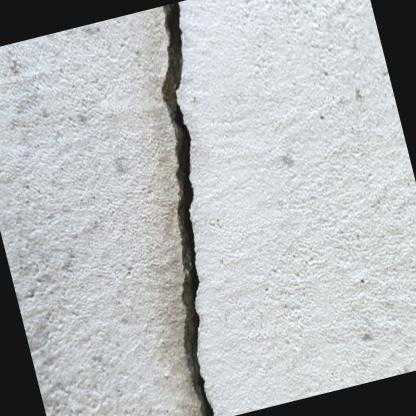crack: (159, 1, 214, 416)
